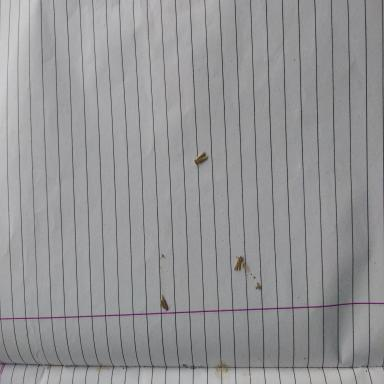pbw: (233, 256, 248, 272), (194, 151, 207, 165), (160, 294, 170, 312)
